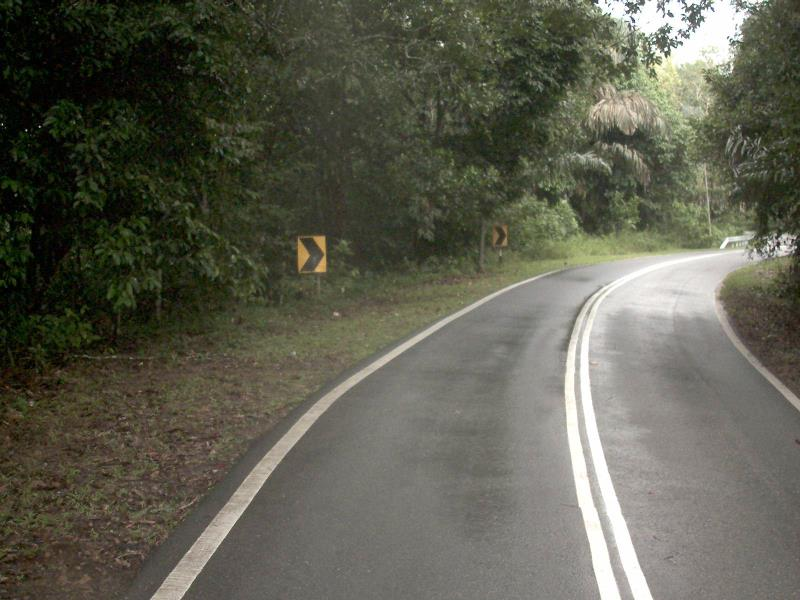traffic_sign: (289, 226, 334, 282)
